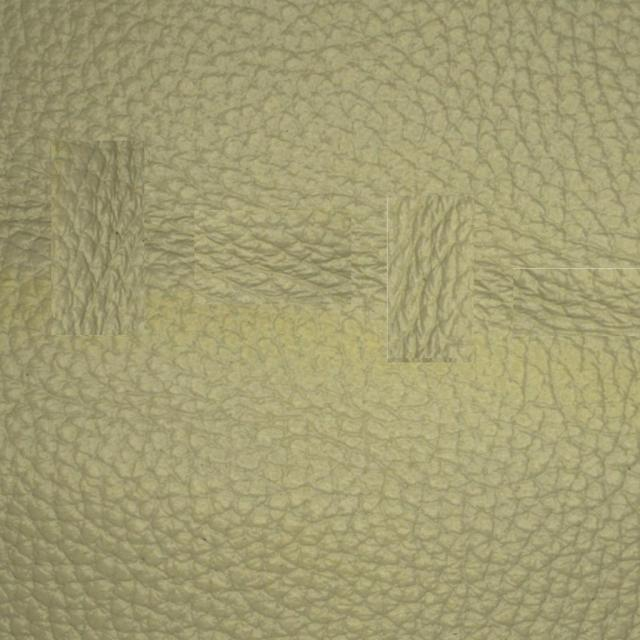Healed Injury: (356, 154, 525, 388), (35, 108, 184, 367)
